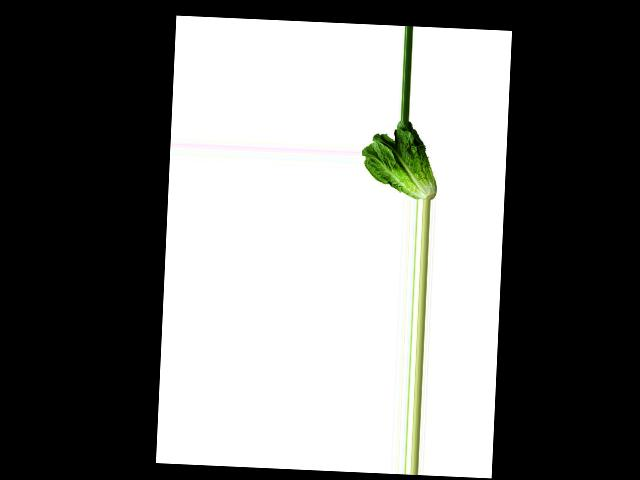lettuce: (359, 120, 440, 199)
